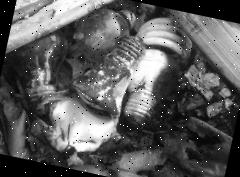lightbulb: (0, 0, 197, 177), (64, 24, 147, 120), (118, 44, 182, 134), (39, 91, 119, 162), (68, 0, 138, 69)
